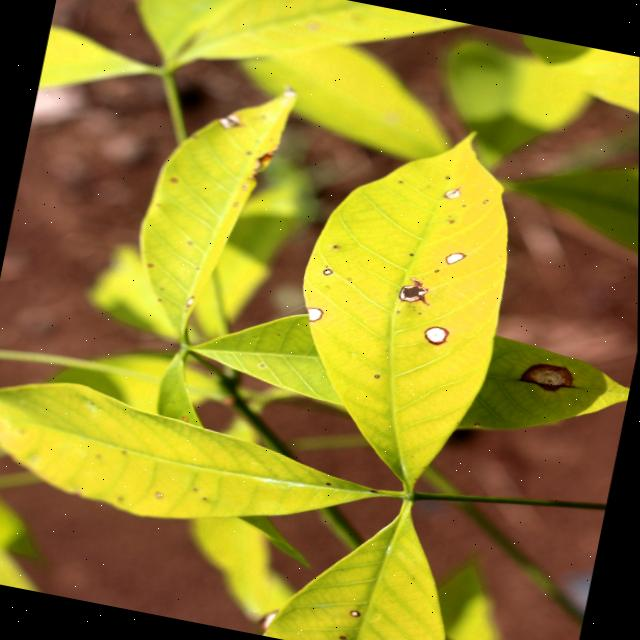Colletotrichum: (519, 357, 577, 395), (398, 282, 429, 304), (423, 324, 451, 346), (445, 250, 467, 266), (305, 306, 325, 322), (323, 268, 334, 276), (351, 609, 362, 617), (482, 198, 488, 204), (375, 373, 379, 378), (435, 269, 439, 272)
